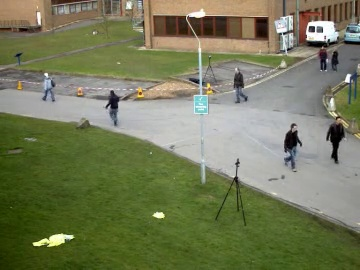person: (325, 117, 345, 161), (326, 118, 345, 163), (43, 74, 56, 103)
